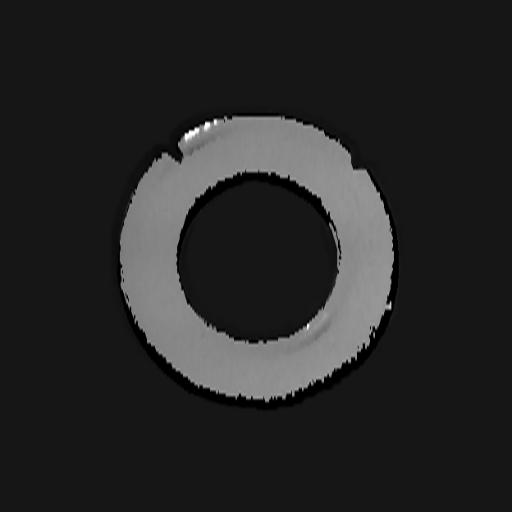defect: (165, 143, 184, 166), (350, 154, 366, 174)
